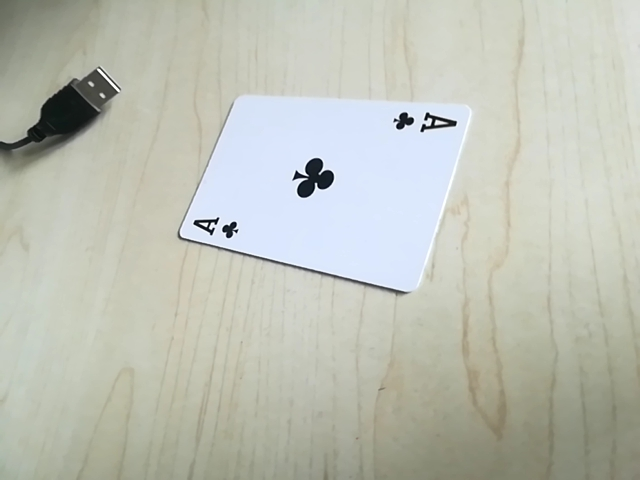mh a: (386, 105, 463, 140), (183, 211, 245, 244)
